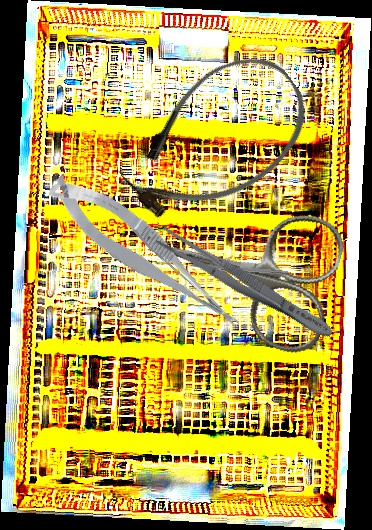Cannula: (102, 35, 328, 244)
Dressing Forceps: (153, 223, 338, 345)
Hook Surgical: (172, 259, 289, 277)
Iris Scissors: (138, 179, 350, 360)
Micro Scissor: (41, 156, 248, 354)
